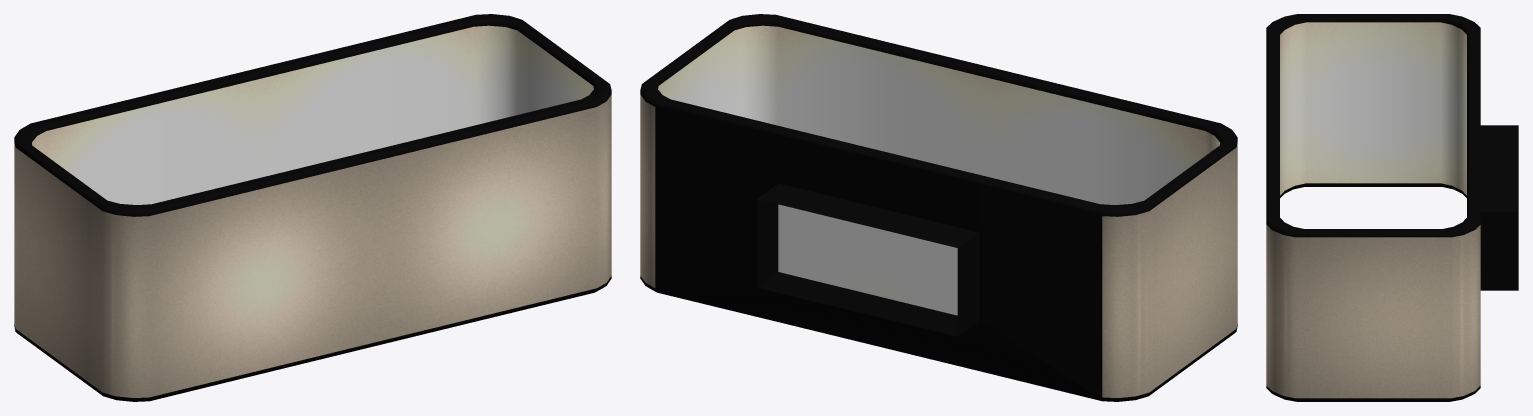
File: SM_WallLight_010.FBX
3 renders of one model, left to right at view 1: azimuth 30°, elevation 25°; view 2: azimuth 150°, elevation 25°; view 3: azimuth 270°, elevation 25°, orthographic. The views are drawn at different scales.
Parts seen in each view (by area): view 1: SM_WallLight_010; view 2: SM_WallLight_010; view 3: SM_WallLight_010.
Part boxes in pixels (bbox=[...]): SM_WallLight_010: bbox=[14, 14, 611, 401]; SM_WallLight_010: bbox=[640, 14, 1237, 401]; SM_WallLight_010: bbox=[1266, 14, 1518, 401].
Bounding box in the file's own units: 32 × 15.52 × 11.49.
